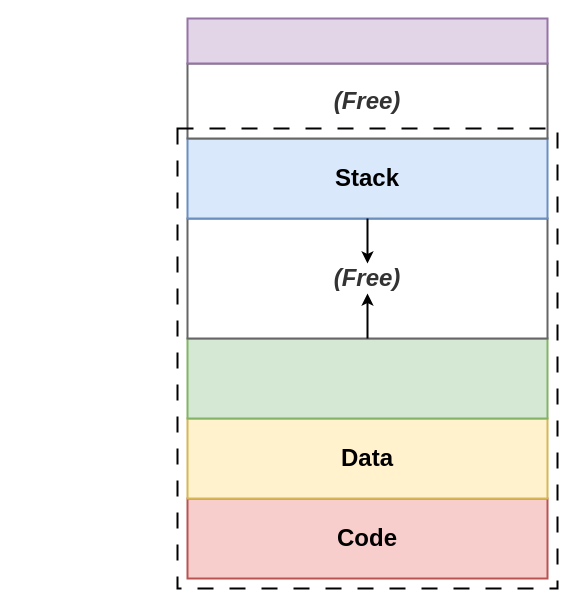
This 575x606 diagram has some shape labels left out. Each missing label, with the centre of its shape:
"Heap" belongs at (x=367, y=378).
"Operating System" belongs at (x=367, y=40).
